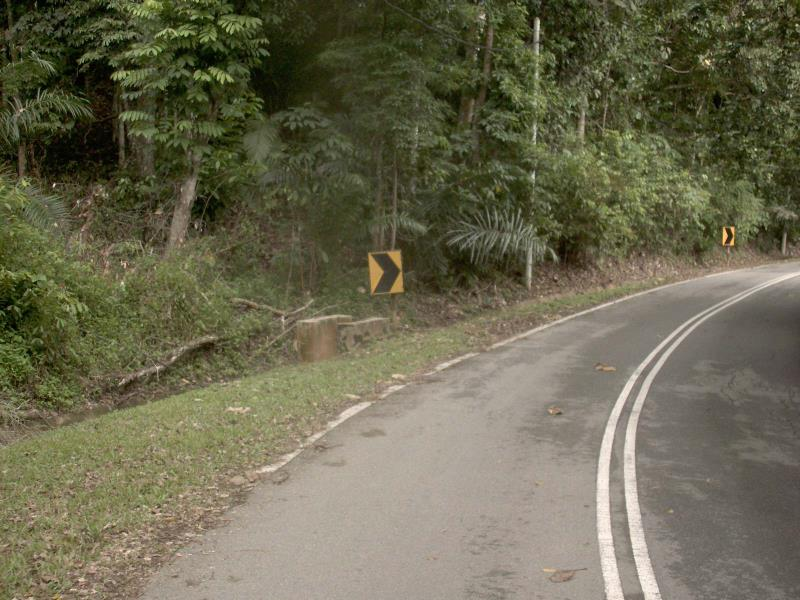traffic_sign: (359, 243, 412, 303)
